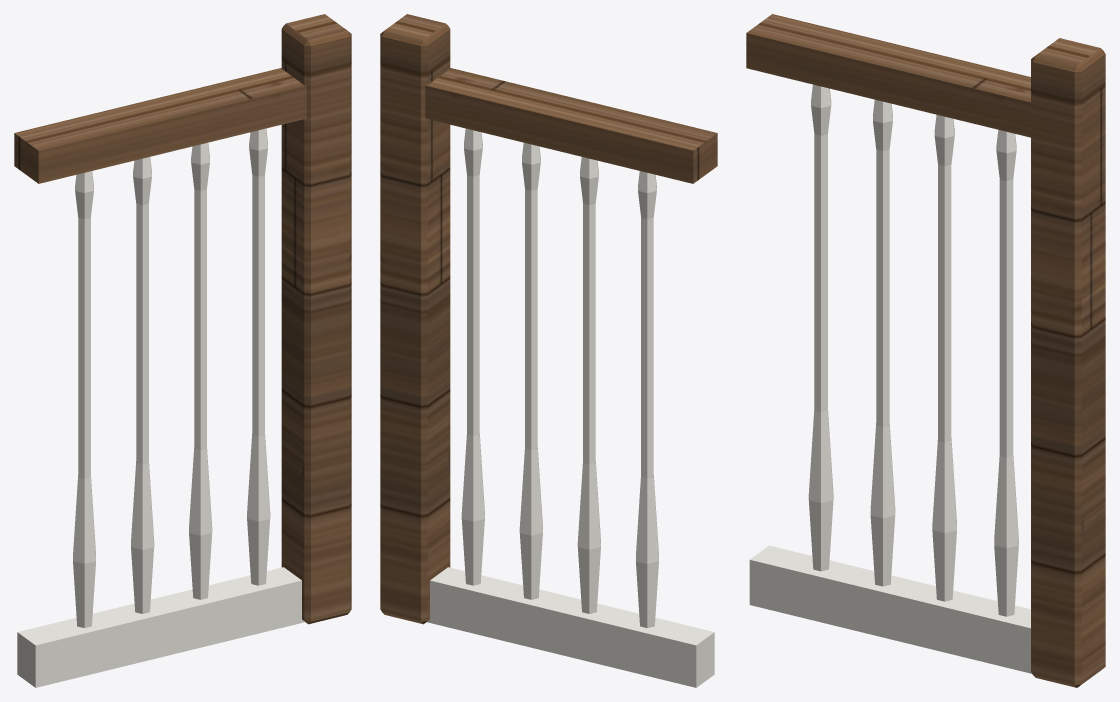
File: rail_55.glb
3 renders of one model, left to right at view 1: azimuth 30°, elevation 25°; view 2: azimuth 150°, elevation 25°; view 3: azimuth 330°, elevation 25°, orthographic. The views are drawn at different scales.
Visible parts, largest first — view 1: rail_55_deck, rail_55_trim; view 2: rail_55_deck, rail_55_trim; view 3: rail_55_deck, rail_55_trim.
Boxes of the visible parts, bbox=[...] form: rail_55_deck: bbox=[14, 14, 351, 624]; rail_55_trim: bbox=[17, 128, 304, 687]; rail_55_deck: bbox=[380, 14, 717, 624]; rail_55_trim: bbox=[427, 128, 714, 687]; rail_55_deck: bbox=[746, 14, 1105, 687]; rail_55_trim: bbox=[749, 84, 1031, 673].
Size of the model in its own units: 0.595 by 1.06 by 0.09.
Materials: 2 (1 with a texture image).
